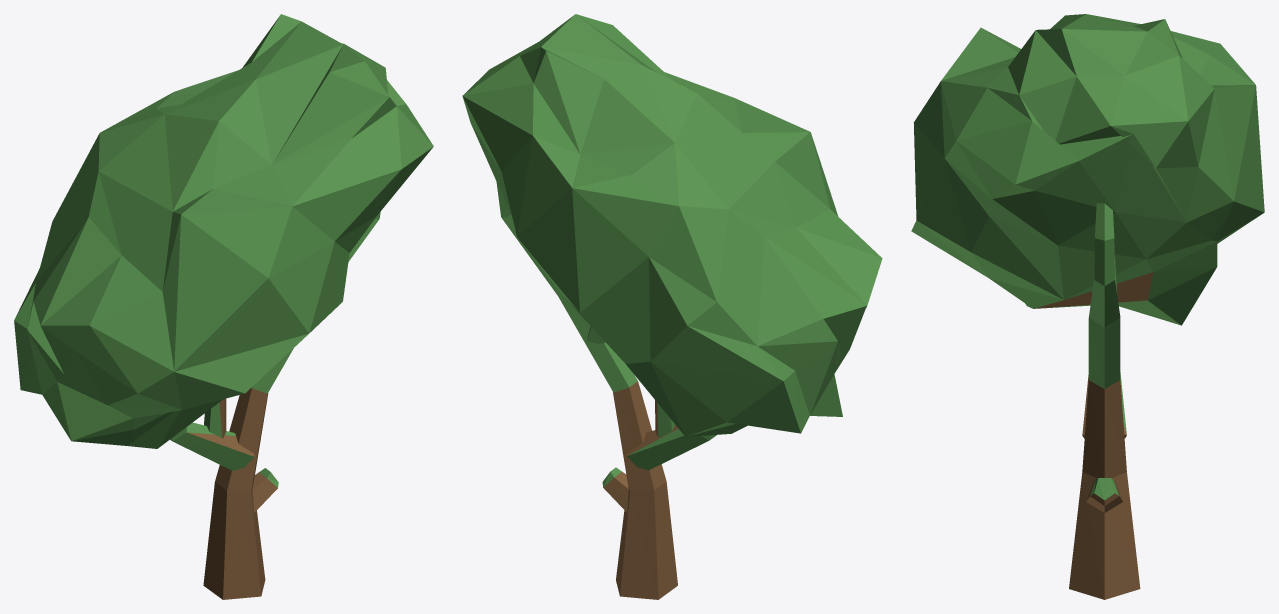
File: tree3d-136.glb
3 views of the same model, side by side, from view 1: azimuth 30°, elevation 25°; view 2: azimuth 150°, elevation 25°; view 3: azimuth 270°, elevation 25° (orthographic). The views are drawn at different scales.
Visible parts, largest first — view 1: tree3d-136; view 2: tree3d-136; view 3: tree3d-136.
Boxes of the visible parts, bbox=[...] form: tree3d-136: bbox=[14, 14, 433, 599]; tree3d-136: bbox=[462, 14, 882, 599]; tree3d-136: bbox=[911, 14, 1264, 599].
Bounding box in the file's own units: 0.7172 × 1 × 0.53.
